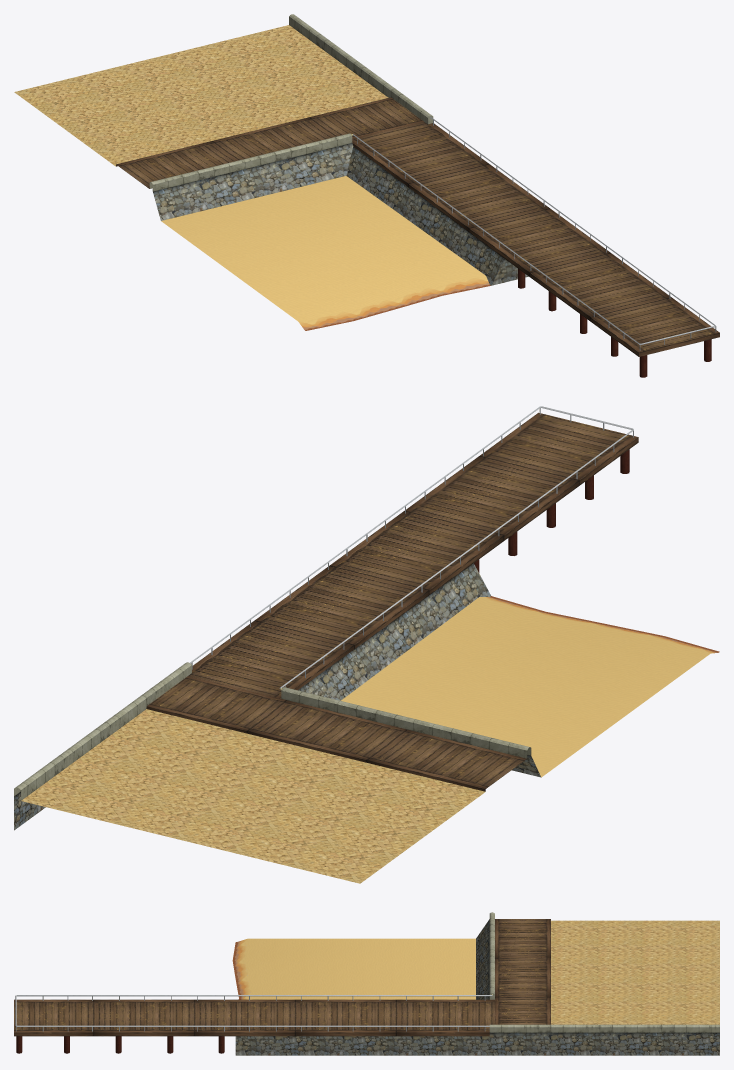
The model's file is Dock_Bridge_R.FBX.
3 renders of one model, top to bottom at view 1: azimuth 30°, elevation 25°; view 2: azimuth 150°, elevation 25°; view 3: azimuth 270°, elevation 25°, orthographic. The views are drawn at different scales.
Visible parts, largest first — view 1: Dock_Bridge_R; view 2: Dock_Bridge_R; view 3: Dock_Bridge_R.
Boxes of the visible parts, x1,y1,x2,y2 form: Dock_Bridge_R: [14, 14, 719, 377]; Dock_Bridge_R: [14, 406, 719, 883]; Dock_Bridge_R: [14, 912, 719, 1055].
Size of the model in its own units: 29.47 by 77.33 by 3.6.
